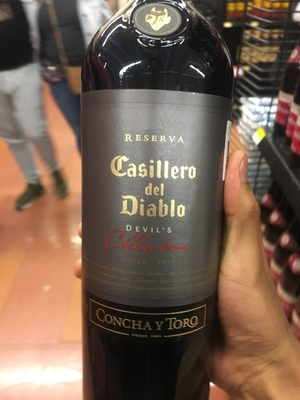casillero del diablo devils collection rojo: (77, 13, 229, 400)
